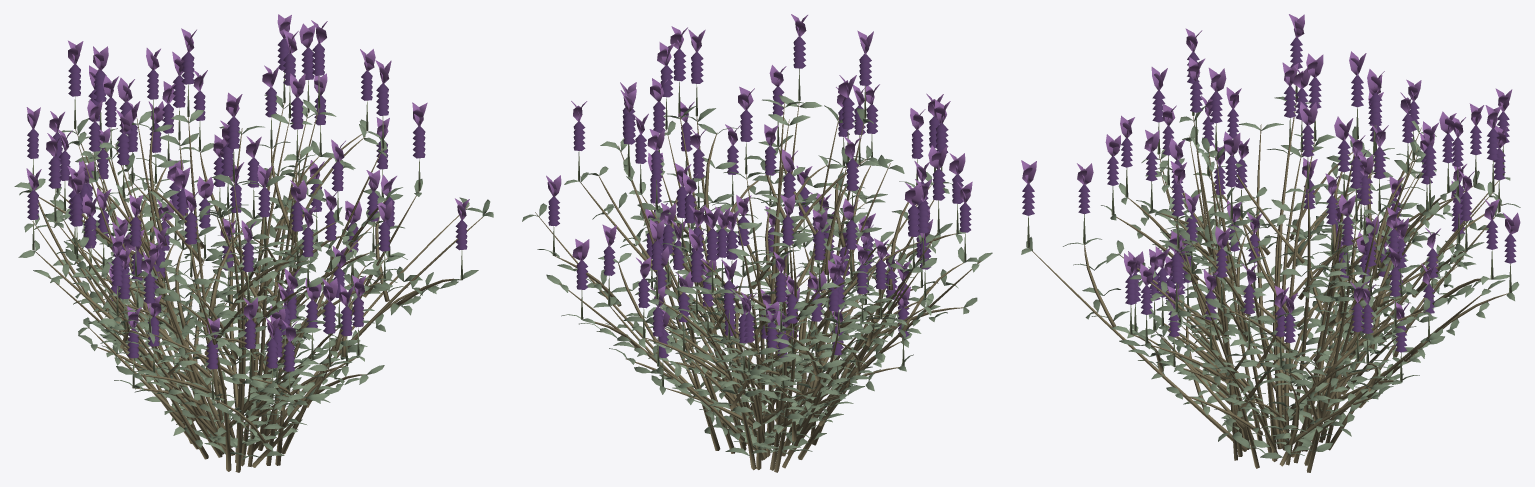
The model's file is Lavande_Dense_LOD0.fbx.
3 renders of one model, left to right at view 1: azimuth 30°, elevation 25°; view 2: azimuth 150°, elevation 25°; view 3: azimuth 270°, elevation 25°, orthographic.
Visible parts, largest first — view 1: Lavande_Dense; view 2: Lavande_Dense; view 3: Lavande_Dense.
Part boxes in pixels (box(x1,y1,x2,y2)): Lavande_Dense: box(14, 14, 493, 472); Lavande_Dense: box(522, 14, 992, 472); Lavande_Dense: box(1021, 14, 1520, 472).
Size of the model in its own units: 70.22 by 61.15 by 68.96.
